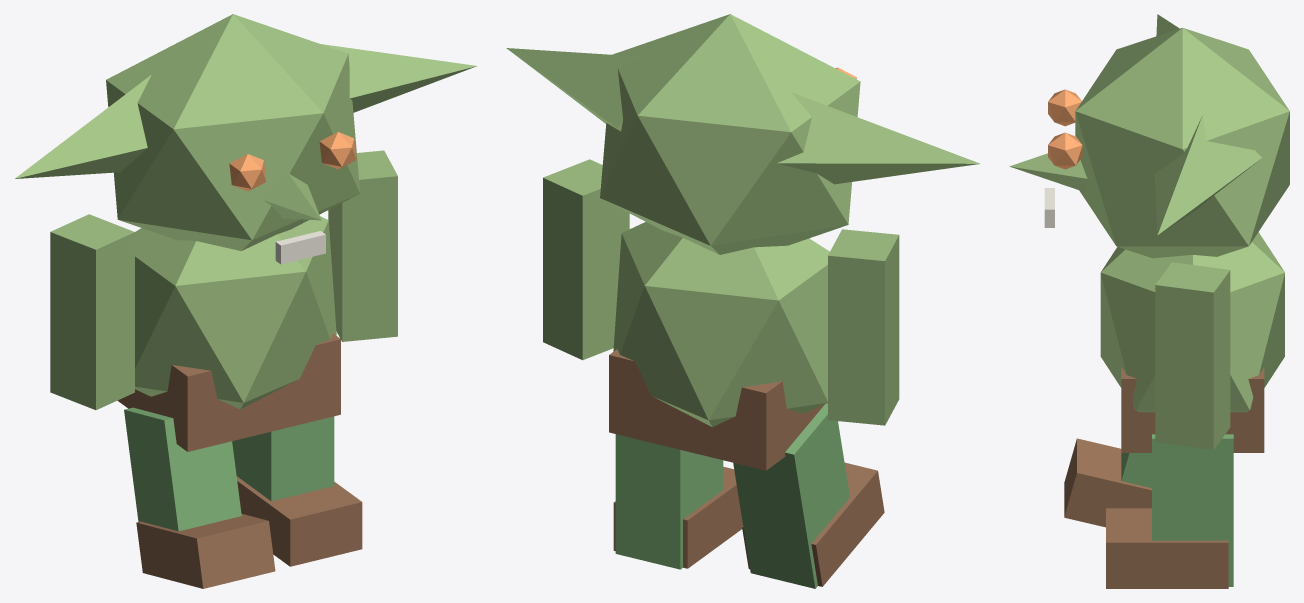
File: npcpose_goblin_walk_00.glb
3 renders of one model, left to right at view 1: azimuth 30°, elevation 25°; view 2: azimuth 150°, elevation 25°; view 3: azimuth 270°, elevation 25°, orthographic. The views are drawn at different scales.
Visible parts, largest first — view 1: npcpose; view 2: npcpose; view 3: npcpose.
Boxes of the visible parts, box(x1,y1,x2,y2) form: npcpose: box(15, 14, 476, 588); npcpose: box(506, 14, 980, 588); npcpose: box(1009, 14, 1289, 588).
Size of the model in its own units: 1.03 by 1.14 by 0.5501.
